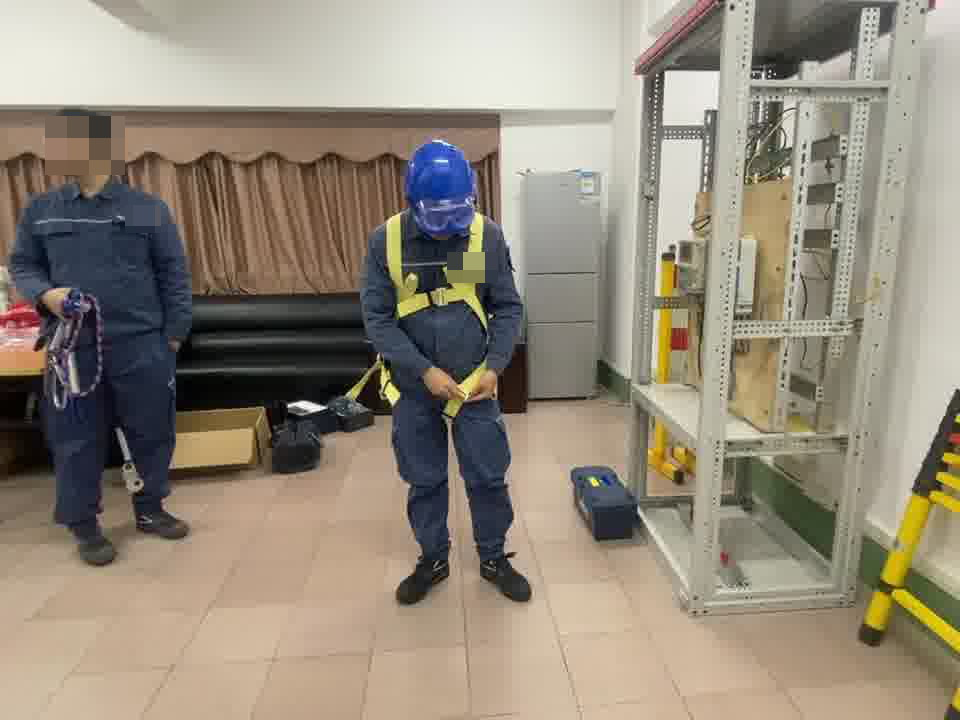downsuit: (389, 401, 519, 560), (57, 354, 179, 523)
halt: (403, 141, 478, 238)
hand: (421, 366, 465, 397), (43, 286, 87, 314), (468, 366, 499, 402)
noear: (78, 133, 111, 173)
person: (344, 140, 531, 612), (4, 109, 193, 564)
safebelt: (344, 203, 501, 416)
unhalt: (42, 108, 119, 197)
upsuit: (7, 186, 196, 348), (362, 204, 520, 354)
